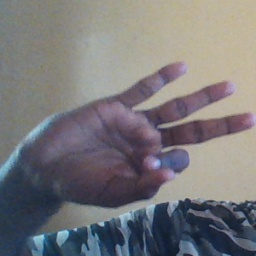K: (19, 61, 254, 206)
